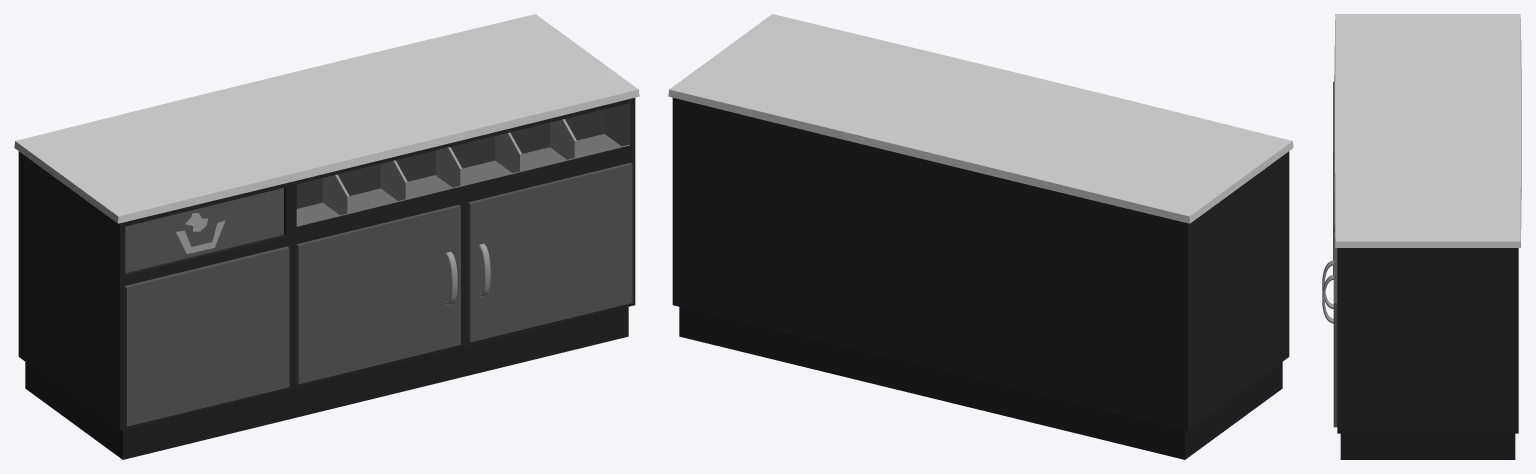
Rendered from Small Counter w_Garbage White.fbx.
3 views of the same model, side by side, from view 1: azimuth 30°, elevation 25°; view 2: azimuth 150°, elevation 25°; view 3: azimuth 270°, elevation 25° (orthographic). The views are drawn at different scales.
Parts seen in each view (by area): view 1: Small Counter w_Garbage White; view 2: Small Counter w_Garbage White; view 3: Small Counter w_Garbage White.
Part boxes in pixels (x1=…): Small Counter w_Garbage White: x1=14, y1=14, x2=639, y2=459; Small Counter w_Garbage White: x1=668, y1=14, x2=1293, y2=459; Small Counter w_Garbage White: x1=1322, y1=14, x2=1521, y2=459.
Bounding box in the file's own units: 211 × 95.99 × 78.18.
Materials: 1 (1 with a texture image).
